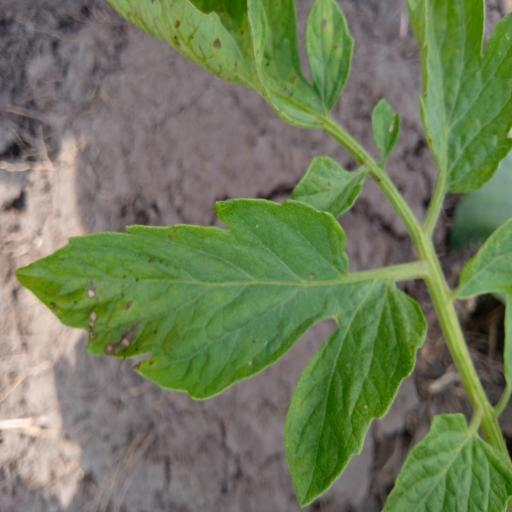Tomato_Mildiou: (13, 199, 435, 511)
